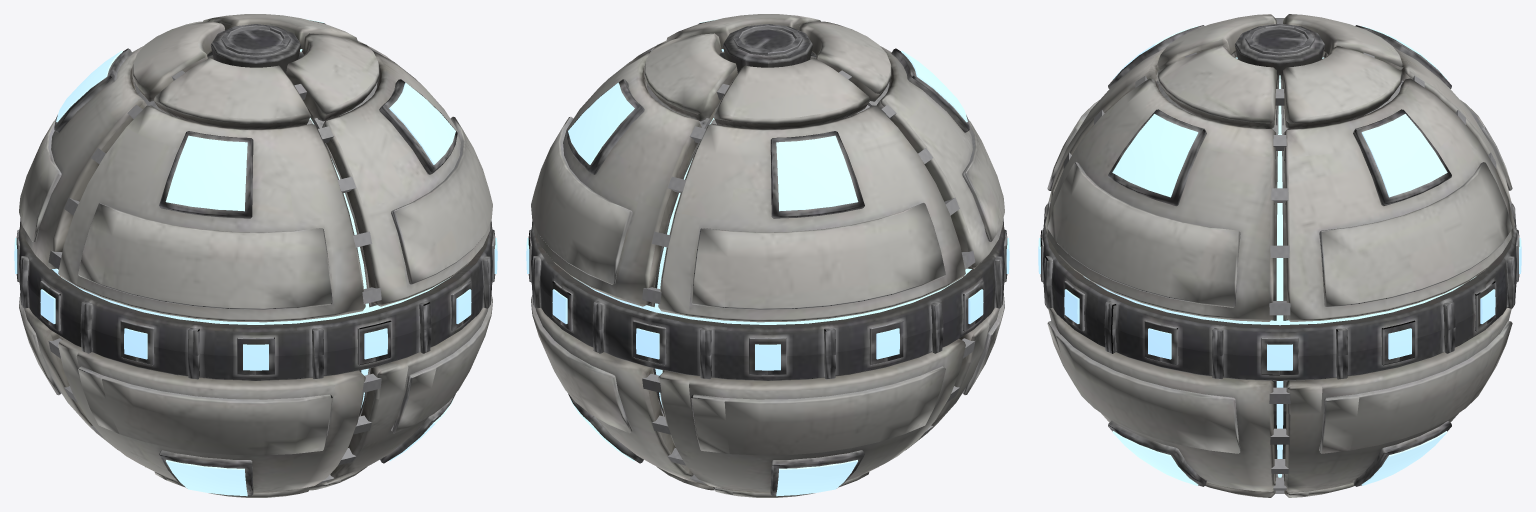
Rendered from bastion_v1.glb.
The picture shows the model from 3 angles, left to right: view 1: azimuth 30°, elevation 25°; view 2: azimuth 150°, elevation 25°; view 3: azimuth 270°, elevation 25°; orthographic projection.
Visible parts, largest first — view 1: plate_U2, plate_U1, plate_L2, band, plate_U3, plate_L1, cage, band_ports, plate_L3, plate_U0, seams; view 2: plate_U3, plate_U0, plate_L3, band, plate_U2, plate_L0, cage, band_ports, plate_L2, plate_U1, seams; view 3: plate_U0, plate_U1, band, plate_L0, plate_L1, cage, plate_U2, plate_U3, band_ports, seams.
Boxes of the visible parts, x1,y1,x2,y2 form: plate_U2: (58,58,365,322); plate_U1: (286,33,492,306); plate_L2: (58,339,365,497); band: (16,218,495,380); plate_U3: (19,21,225,269); plate_L1: (309,295,492,490); cage: (48,24,382,483); band_ports: (14,238,497,370); plate_L3: (19,293,145,467); plate_U0: (203,14,390,108); seams: (52,49,450,407); plate_U3: (658,58,965,322); plate_U0: (531,33,737,306); plate_L3: (658,339,965,497); band: (528,218,1007,380); plate_U2: (798,21,1004,269); plate_L0: (531,295,714,490); cage: (641,24,975,483); band_ports: (526,238,1009,370); plate_L2: (878,293,1004,467); plate_U1: (633,14,820,108); seams: (573,49,971,407); plate_U0: (1282,46,1514,321); plate_U1: (1045,46,1277,321); band: (1040,203,1519,380); plate_L0: (1282,307,1512,497); plate_L1: (1047,307,1277,497); cage: (1046,18,1513,493); plate_U2: (1045,14,1276,216); plate_U3: (1283,14,1514,216); band_ports: (1038,238,1521,370); seams: (1083,57,1476,477).
Size of the model in its own units: 2.02 by 2.02 by 2.02.
4 materials, 1 textured.
